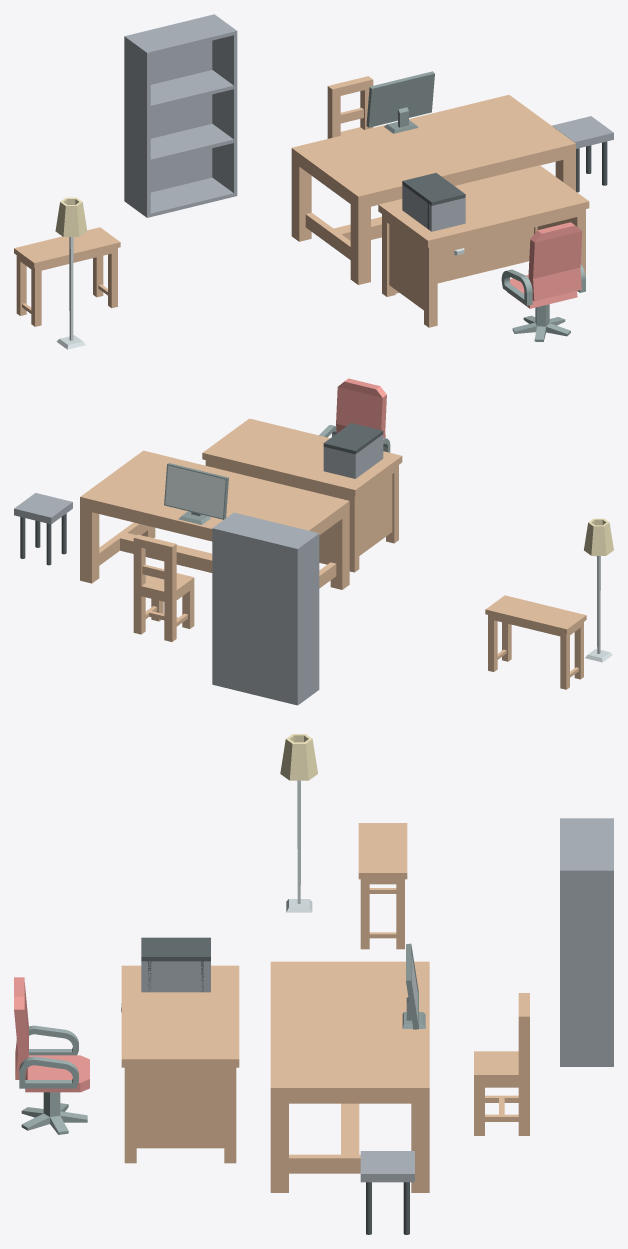
3 views of the same model, one above another, from view 1: azimuth 30°, elevation 25°; view 2: azimuth 150°, elevation 25°; view 3: azimuth 270°, elevation 25° (orthographic). The views are drawn at different scales.
Parts seen in each view (by area): view 1: table_green__table(Clone), desk_blue__desk(Clone), shelf_orange__shelf_orange back, sidetable_brown__sideTable(Clone), deskchair_black__chair, shelf_orange__shelf_orange side_l, shelf_orange__shelf_orange side_r, monitor_gray__computerScreen(Clone), shelf_orange__shelf_orange board3, shelf_orange__shelf_orange board0, shelf_orange__shelf_orange board2, shelf_orange__shelf_orange board1 (+7 smaller); view 2: table_green__table(Clone), shelf_orange__shelf_orange back, desk_blue__desk(Clone), chair_cyan__chair(Clone), sidetable_brown__sideTable(Clone), shelf_orange__shelf_orange side_l, monitor_gray__computerScreen(Clone), deskchair_black__chair, shelf_orange__shelf_orange board3, lamp_white__lampRoundFloor(Clone), case_brown__case_brown shell, stool_purple__stool_purple seat (+2 smaller); view 3: table_green__table(Clone), desk_blue__desk(Clone), shelf_orange__shelf_orange side_r, sidetable_brown__sideTable(Clone), deskchair_black__chair, chair_cyan__chair(Clone), shelf_orange__shelf_orange board3, lamp_white__lampRoundFloor(Clone), case_brown__case_brown shell, stool_purple__stool_purple seat, case_brown__case_brown lid, deskchair_black__chairDesk(Clone) (+1 smaller).
Part boxes in pixels (x1,y1,x2,y2): table_green__table(Clone): (291,95,575,284); desk_blue__desk(Clone): (378,165,589,327); shelf_orange__shelf_orange back: (128,15,212,192); sidetable_brown__sideTable(Clone): (14,227,120,326); deskchair_black__chair: (501,222,585,308); shelf_orange__shelf_orange side_l: (124,35,150,217); shelf_orange__shelf_orange side_r: (211,14,237,196); monitor_gray__computerScreen(Clone): (366,71,434,133); shelf_orange__shelf_orange board3: (129,16,233,55); shelf_orange__shelf_orange board0: (150,177,233,216); shelf_orange__shelf_orange board2: (150,70,233,109); shelf_orange__shelf_orange board1: (150,123,233,162); table_green__table(Clone): (80,450,349,589); shelf_orange__shelf_orange back: (215,528,295,704); desk_blue__desk(Clone): (202,418,402,572); chair_cyan__chair(Clone): (133,534,194,641); sidetable_brown__sideTable(Clone): (485,595,586,689); shelf_orange__shelf_orange side_l: (294,532,319,705); monitor_gray__computerScreen(Clone): (164,463,228,524); deskchair_black__chair: (319,378,390,452); shelf_orange__shelf_orange board3: (217,513,315,547); lamp_white__lampRoundFloor(Clone): (584,518,613,662); case_brown__case_brown shell: (323,434,383,478); stool_purple__stool_purple seat: (14,493,72,524); table_green__table(Clone): (270,961,429,1192); desk_blue__desk(Clone): (121,965,239,1163); shelf_orange__shelf_orange side_r: (560,868,613,1066); sidetable_brown__sideTable(Clone): (358,823,407,949); deskchair_black__chair: (14,977,89,1092); chair_cyan__chair(Clone): (474,993,529,1135); shelf_orange__shelf_orange board3: (560,820,610,868); lamp_white__lampRoundFloor(Clone): (280,734,317,912); case_brown__case_brown shell: (141,961,210,992); stool_purple__stool_purple seat: (360,1151,414,1182); case_brown__case_brown lid: (141,937,210,961); deskchair_black__chairDesk(Clone): (21,1092,87,1134).
Bounding box in the file's own units: 5.15 × 1.4 × 3.88.
